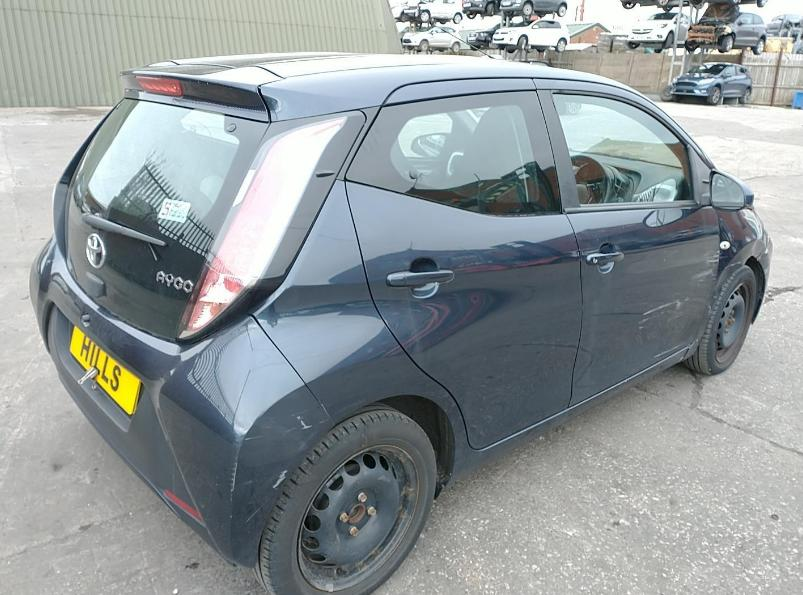Back-bumper: (30, 242, 332, 567)
Back-door: (347, 79, 579, 449)
Back-wheel: (255, 400, 434, 592)
Back-window: (349, 92, 564, 211)
Back-windshield: (65, 97, 273, 339)
Fender: (684, 209, 767, 362)
Front-bumper: (753, 235, 774, 323)
Front-door: (534, 80, 719, 408)
Front-wheel: (686, 261, 760, 373)
Front-window: (539, 92, 711, 214)
License-plate: (67, 327, 142, 416)
Mirror: (712, 174, 752, 210)
Quarter-panel: (248, 174, 472, 462)
Rocker-panel: (443, 345, 689, 487)
Roof: (169, 51, 635, 121)
Tail-light: (176, 111, 365, 339), (52, 115, 107, 259)
Trunk: (121, 60, 282, 124)
